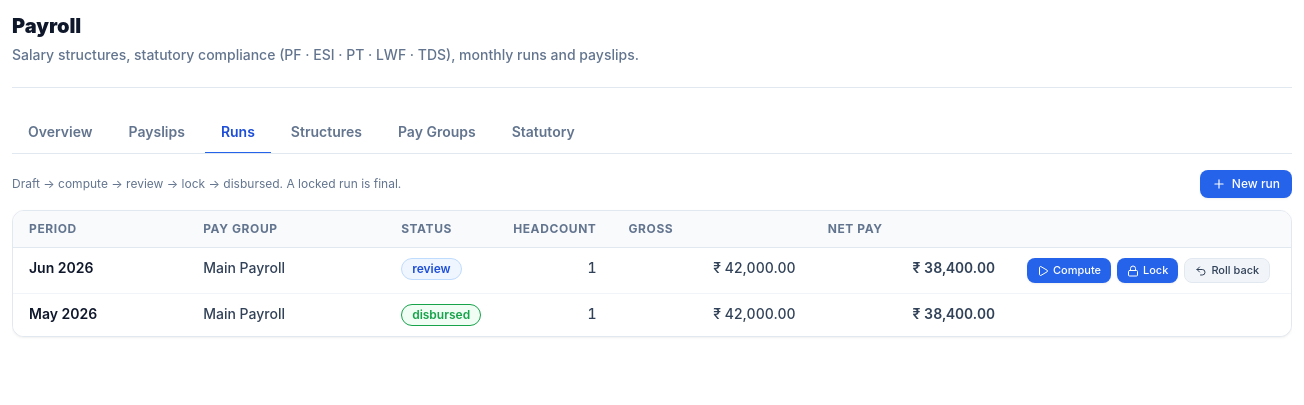
Test: runs › computes a run and reports how many payslips were produced
Click the button "Compute" at coordinates (1069, 271), box [1027,258,1111,284]
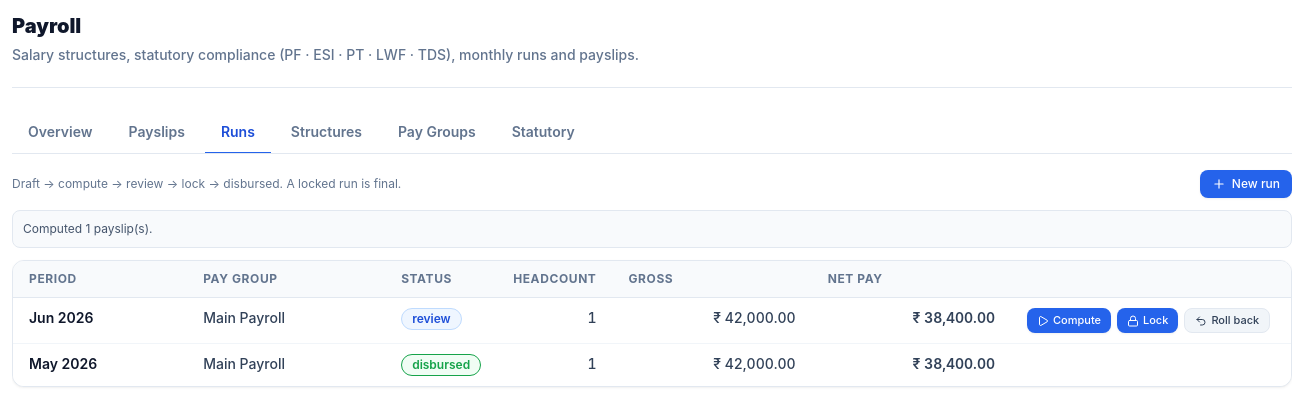
Now the message "Computed 1 payslip(s)." is shown, box [12,210,1292,248]
